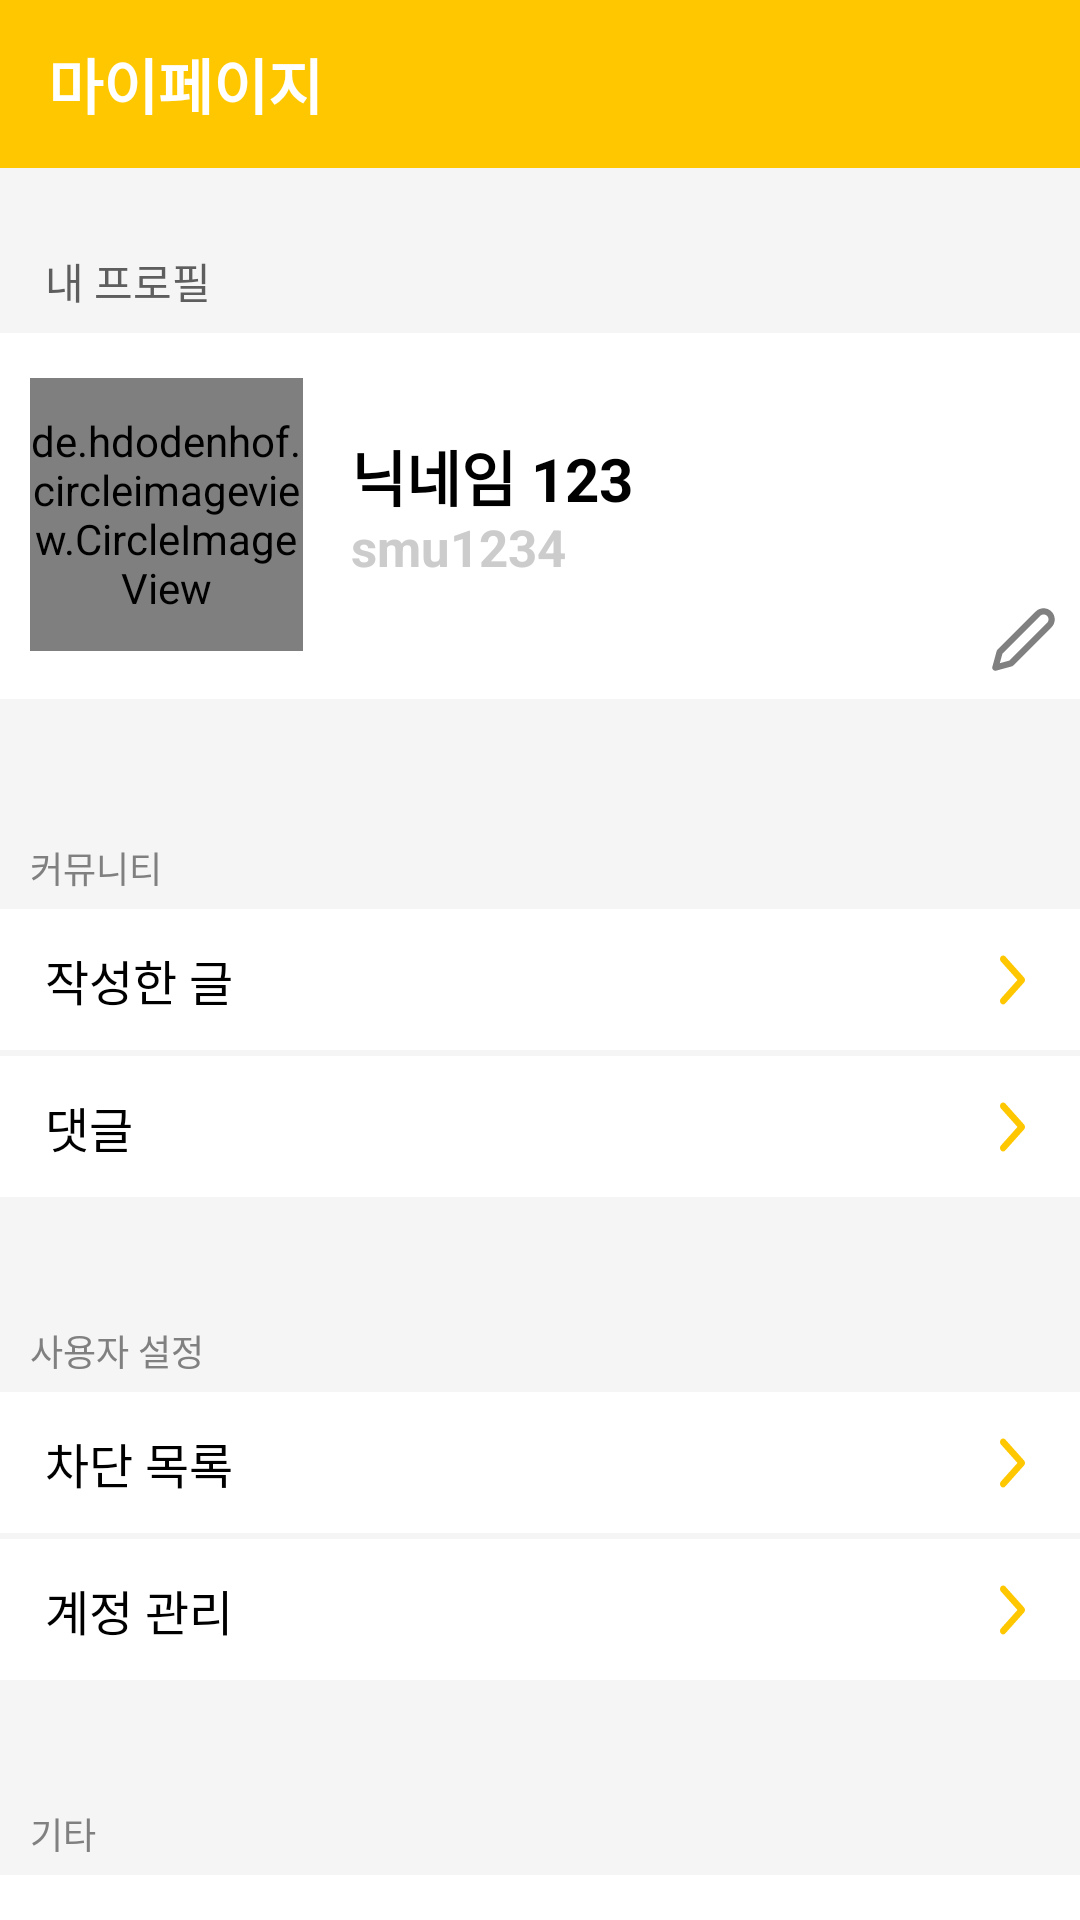

Named icons in this screenshot (1080w x 1920h) and their centers, (x,y):
edit profile: (1023,639)
